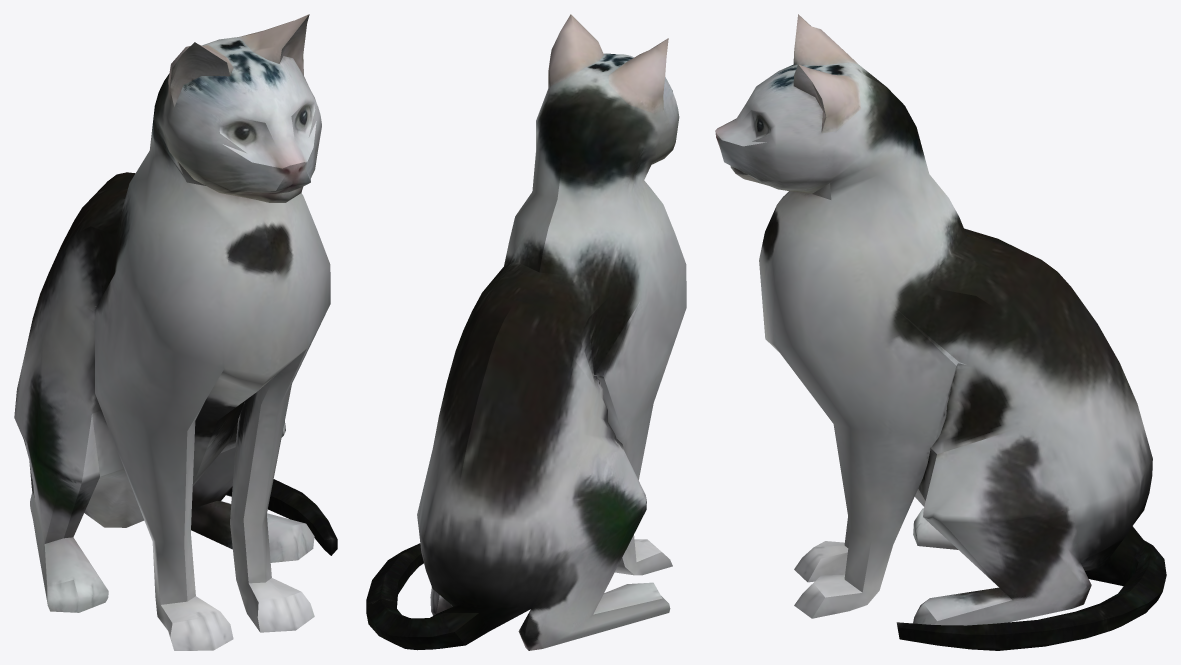
The model's file is cat.glb.
3 renders of one model, left to right at view 1: azimuth 30°, elevation 25°; view 2: azimuth 150°, elevation 25°; view 3: azimuth 270°, elevation 25°, orthographic. The views are drawn at different scales.
Visible parts, largest first — view 1: Object_2; view 2: Object_2; view 3: Object_2.
Boxes of the visible parts, bbox=[...] form: Object_2: bbox=[14, 14, 337, 650]; Object_2: bbox=[366, 14, 686, 650]; Object_2: bbox=[715, 14, 1166, 650].
Bounding box in the file's own units: 22.86 × 45.62 × 33.99.
Materials: 1 (1 with a texture image).
